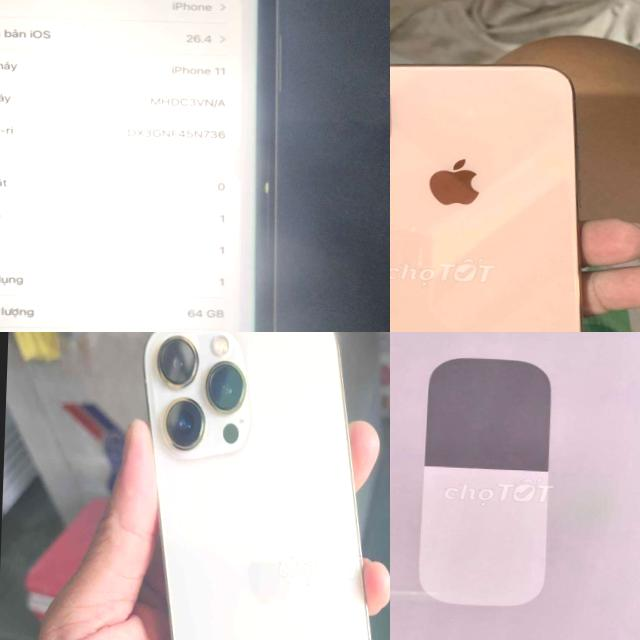gen_11: (0, 0, 309, 332)
gen_12_13: (121, 332, 390, 640), (390, 332, 640, 640)
gen_x_xs: (390, 52, 622, 332)
physical_damage: (390, 102, 396, 127)
